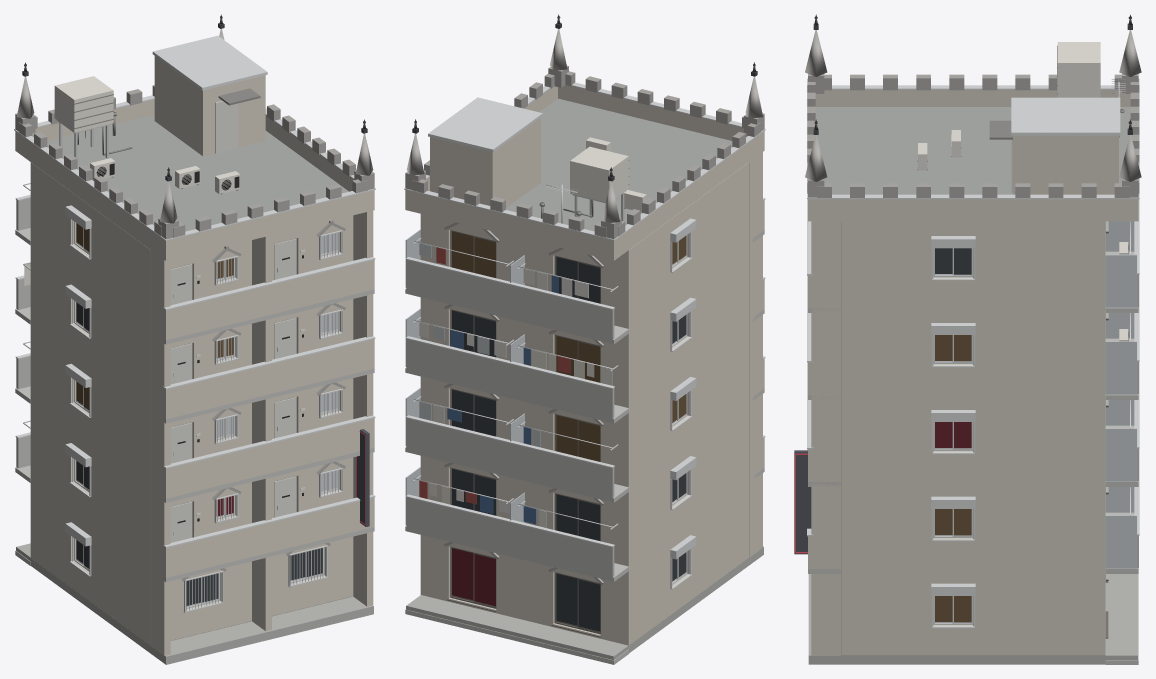
The model's file is blk_skyline2.glb.
3 views of the same model, side by side, from view 1: azimuth 30°, elevation 25°; view 2: azimuth 150°, elevation 25°; view 3: azimuth 270°, elevation 25° (orthographic). The views are drawn at different scales.
Visible parts, largest first — view 1: blk_skyline2; view 2: blk_skyline2; view 3: blk_skyline2.
Part boxes in pixels (x1,y1,x2,y2): blk_skyline2: (14, 14, 375, 664); blk_skyline2: (404, 14, 765, 664); blk_skyline2: (794, 14, 1141, 664).
Bounding box in the file's own units: 8.46 × 18.1 × 10.5.
